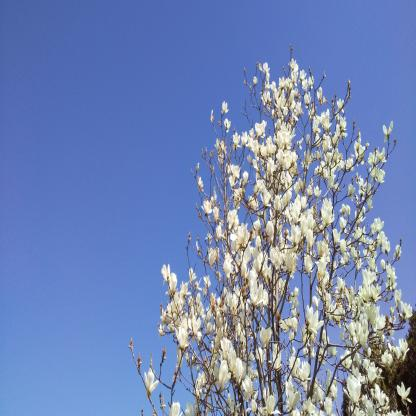Mokuren: (127, 40, 415, 416)
